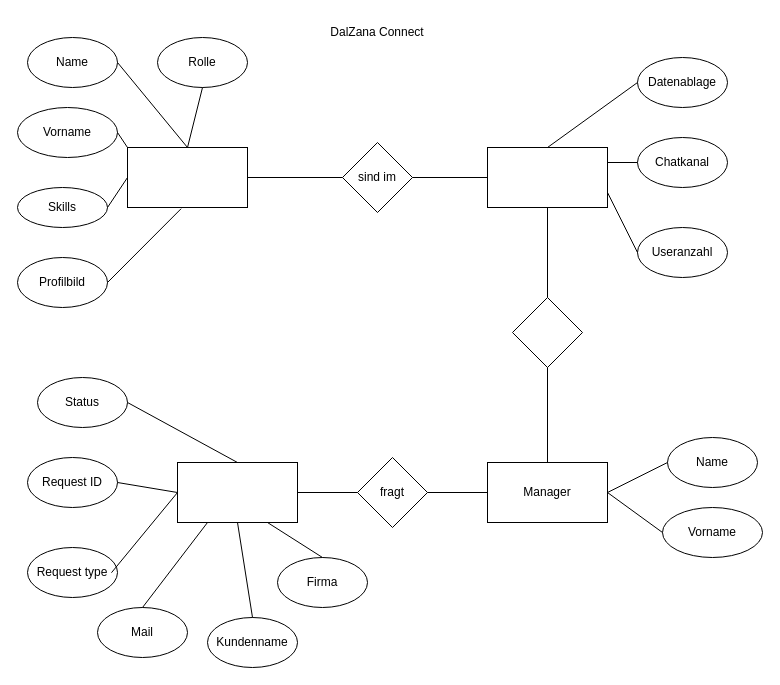
This 780x685 diagram has some shape labels left out. Each missing label, with the centre of its shape:
"bildet" goes at [547,332].
"Requests" goes at [237,492].
"Team" goes at [547,177].
"User" goes at [187,177].
